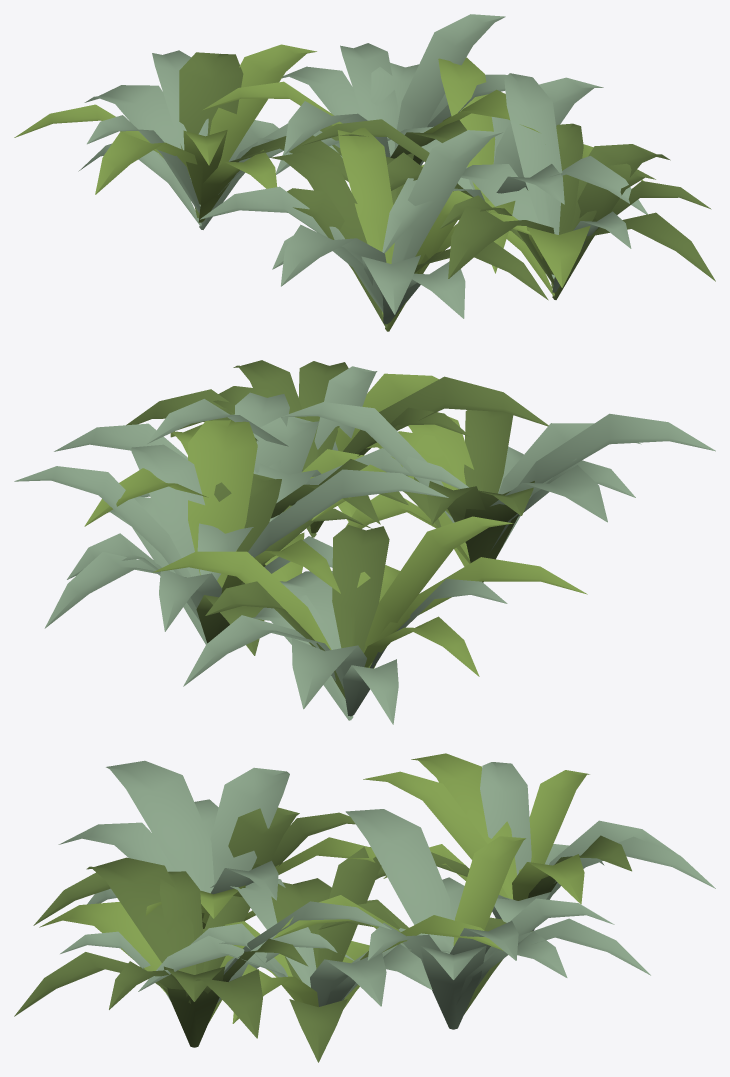
File: sc_succulent.glb
The picture shows the model from 3 angles, top to bottom: view 1: azimuth 30°, elevation 25°; view 2: azimuth 150°, elevation 25°; view 3: azimuth 270°, elevation 25°; orthographic projection. The views are drawn at different scales.
Visible parts, largest first — view 1: sc_succulent; view 2: sc_succulent; view 3: sc_succulent.
Boxes of the visible parts, box(x1,y1,x2,y2) form: sc_succulent: box(14, 14, 715, 331); sc_succulent: box(14, 360, 715, 724); sc_succulent: box(14, 753, 715, 1062).
Size of the model in its own units: 0.8797 by 0.2586 by 1.06.
